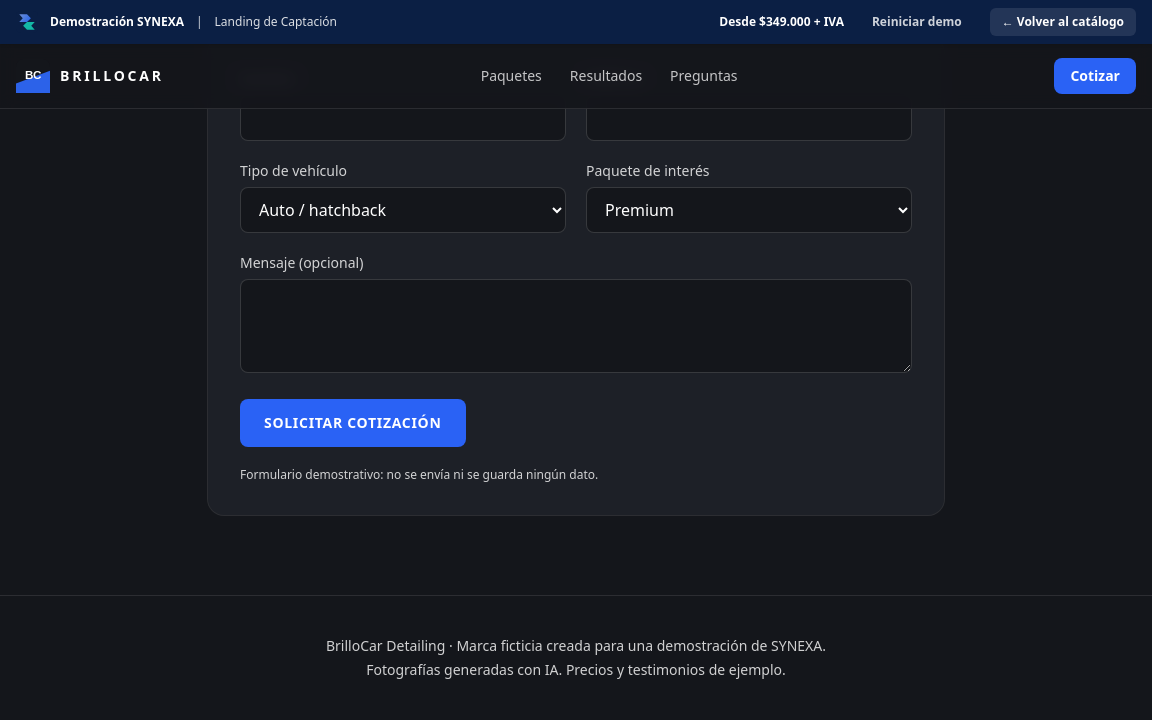
Test: demo BrilloCar › valida el formulario antes de enviar
(page scrolled)
Click the button "Solicitar cotización" at (353, 423), box [240, 399, 466, 447]
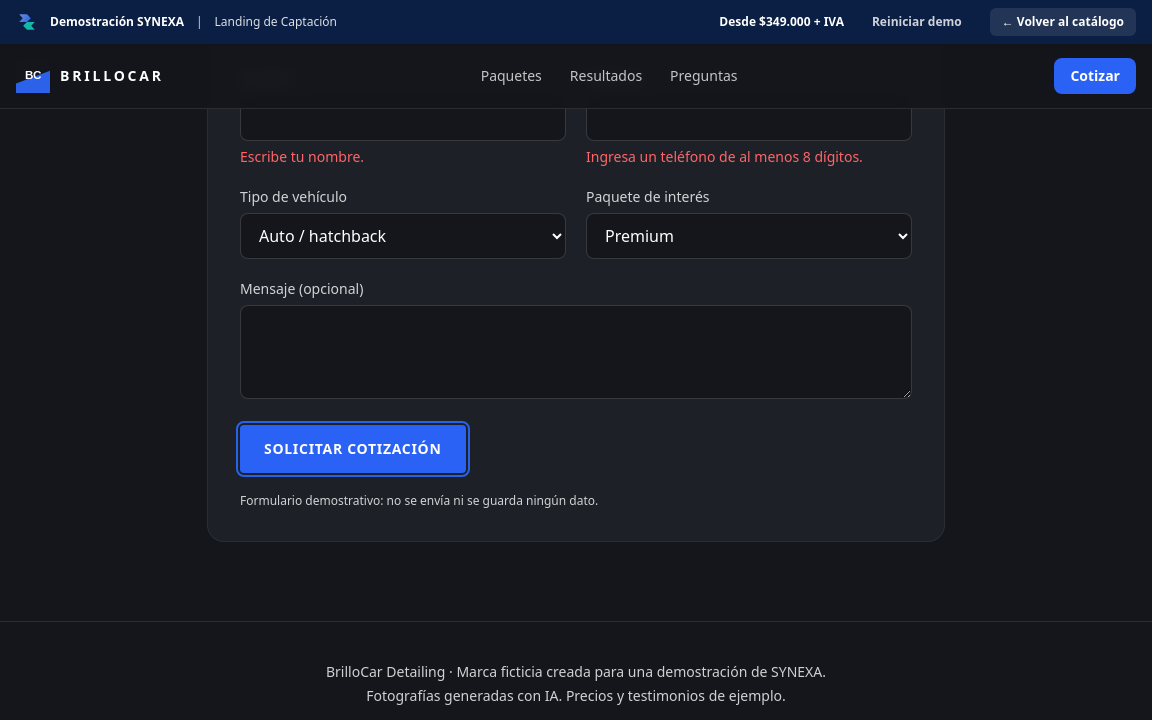
Expected: the text "Escribe tu nombre." is shown, [240, 147, 364, 166]
Expected: the text "Ingresa un teléfono de al menos 8 dígitos." is shown, [586, 147, 863, 166]
